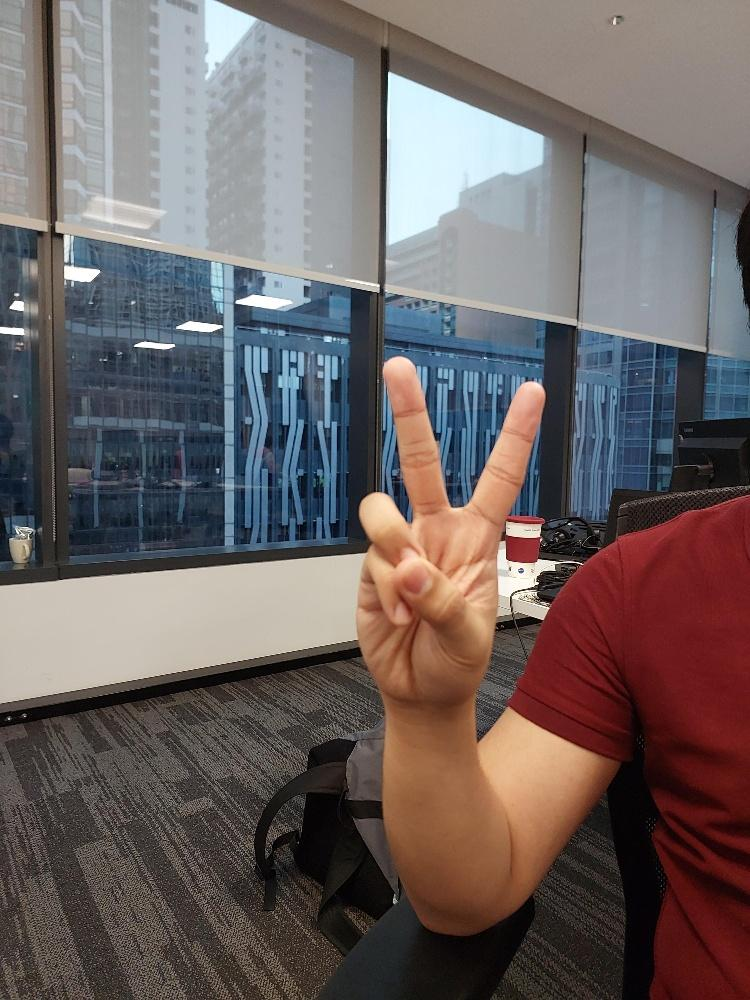v: (351, 354, 549, 705)
